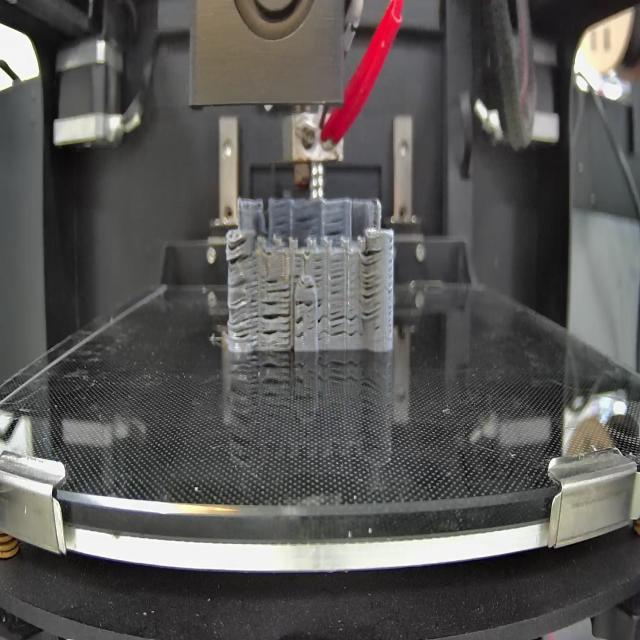cracks: (227, 277, 260, 342), (360, 247, 382, 324), (260, 300, 292, 345), (330, 306, 360, 340), (226, 238, 252, 264), (328, 255, 344, 297), (315, 296, 328, 340), (296, 211, 320, 229), (324, 217, 345, 236), (265, 281, 290, 296), (312, 256, 324, 282), (293, 316, 306, 338), (292, 254, 302, 282), (274, 216, 288, 233), (294, 298, 314, 308), (305, 280, 314, 293)
